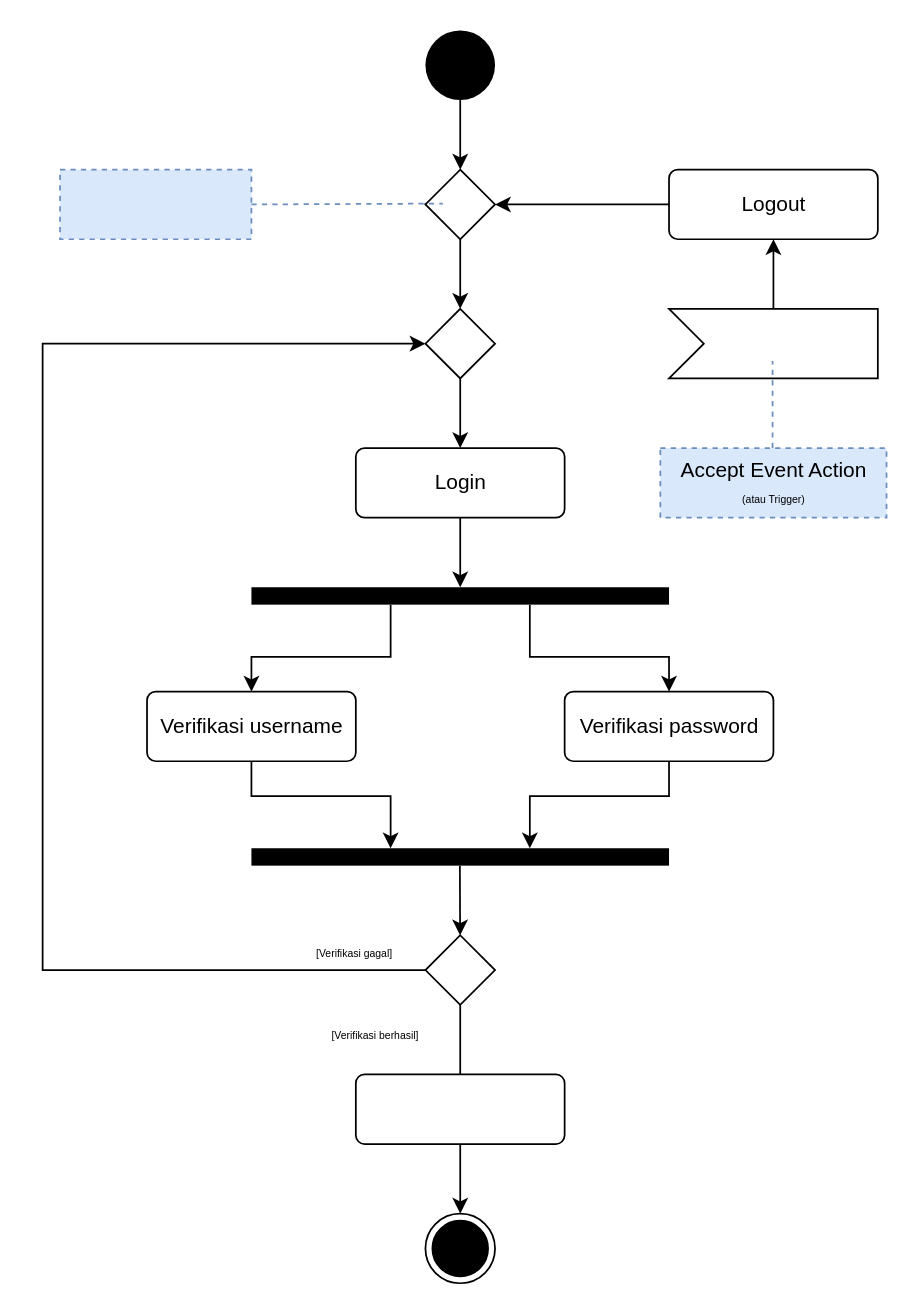
The diagram is 917 pixels wide and 1314 high, and some of its shapes have lost their labels. The shapes that lost their labels are listed below. From the top down, each one's centre as x and y in pixels, then its label:
At (x=154, y=203): "Merge Node (bagian dari Trigger)".
At (x=772, y=342): "Tekan Logout".
At (x=459, y=1108): "Lihat Menu Utama".
